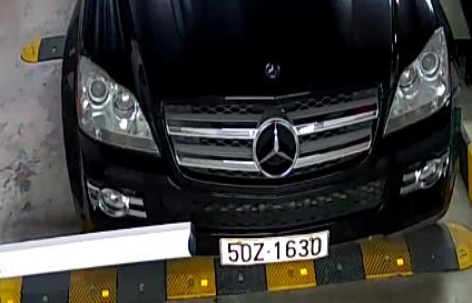plate: (217, 224, 341, 265)
